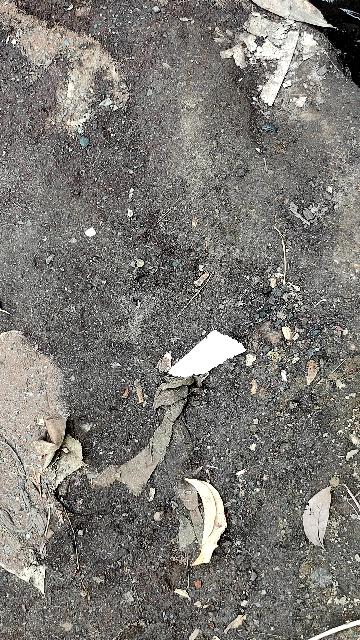cocksheet: (159, 325, 253, 382)
